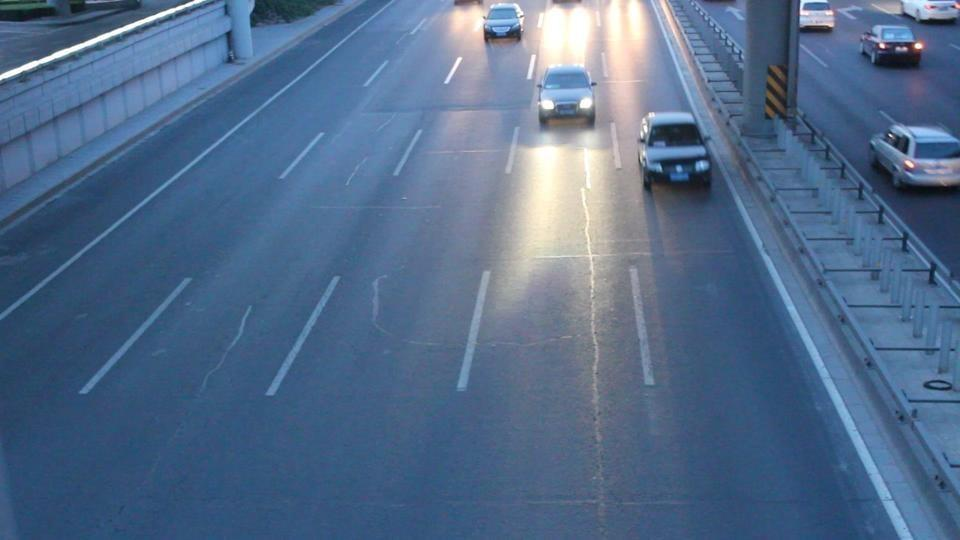car: (635, 111, 713, 191), (868, 123, 960, 189), (535, 64, 597, 129), (859, 23, 926, 68), (482, 3, 525, 40), (898, 0, 960, 24), (799, 0, 836, 33)
